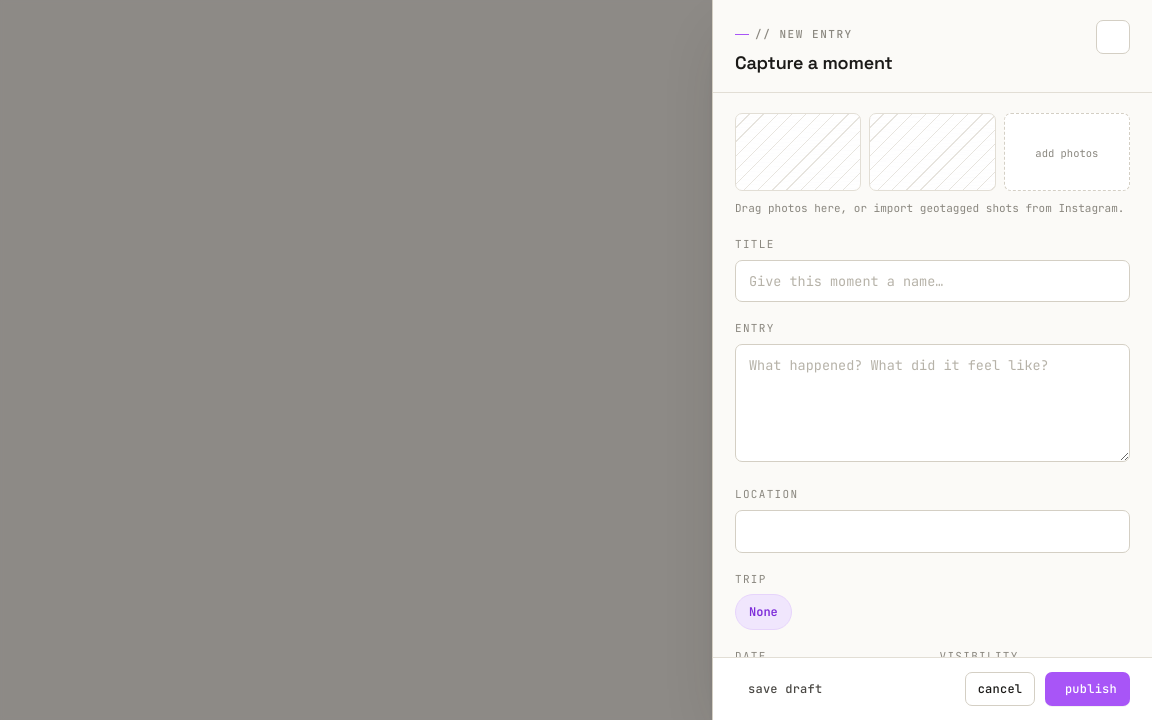
Test: AppNewEntry › shows publish error when createEntry throws
The width and height of the screenshot is (1152, 720).
Click the button with class "btn--primary" at x=1088, y=689, box [1045, 672, 1130, 706]
(page scrolled)
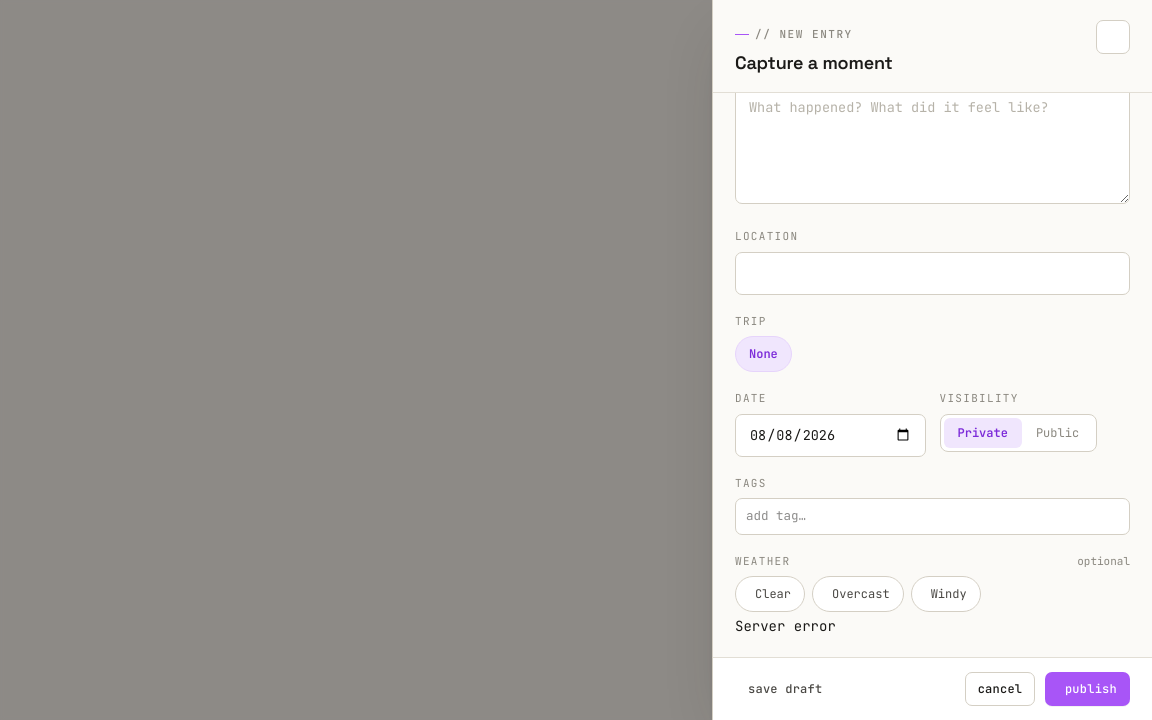
Expected: the text with class "error-hint" reads "Server error", [735, 617, 836, 635]
